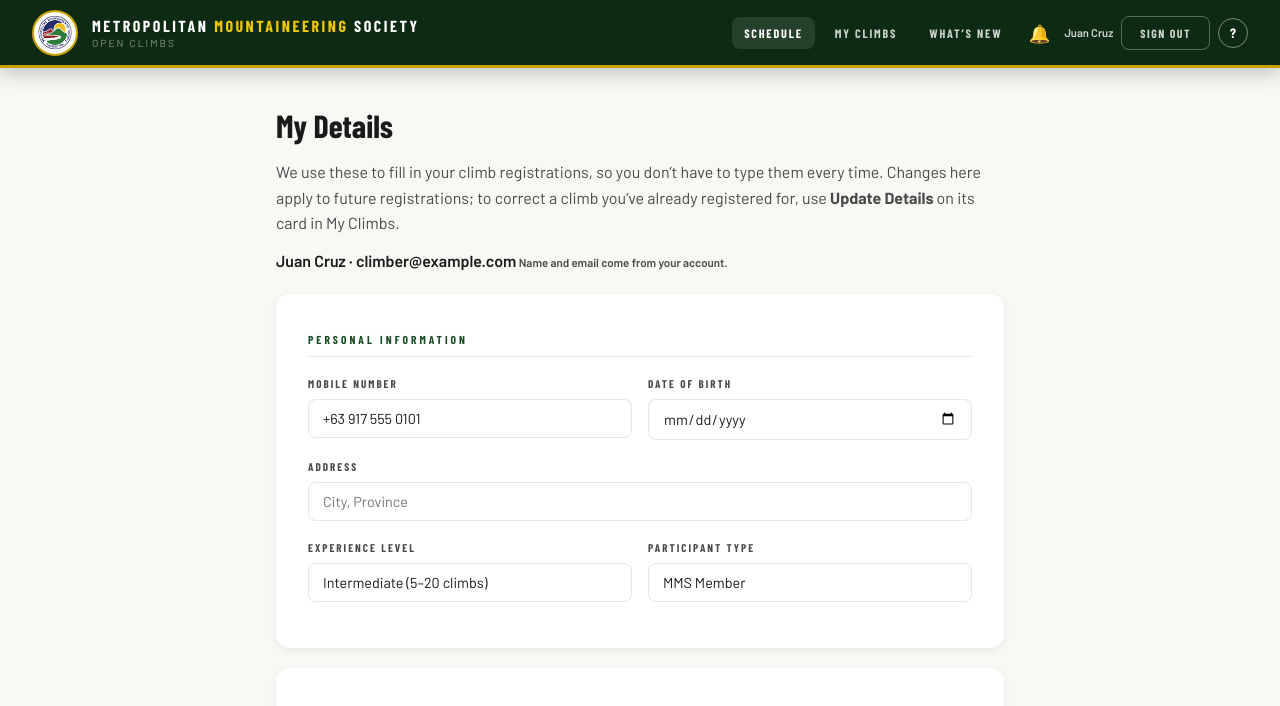
Test case: My Details page › saves edits to the member's own record
Replace the text in the field showing "+63 917 555 0101" with " +63 999 000 0000 " at (470, 418), box [308, 399, 632, 438]
(page scrolled)
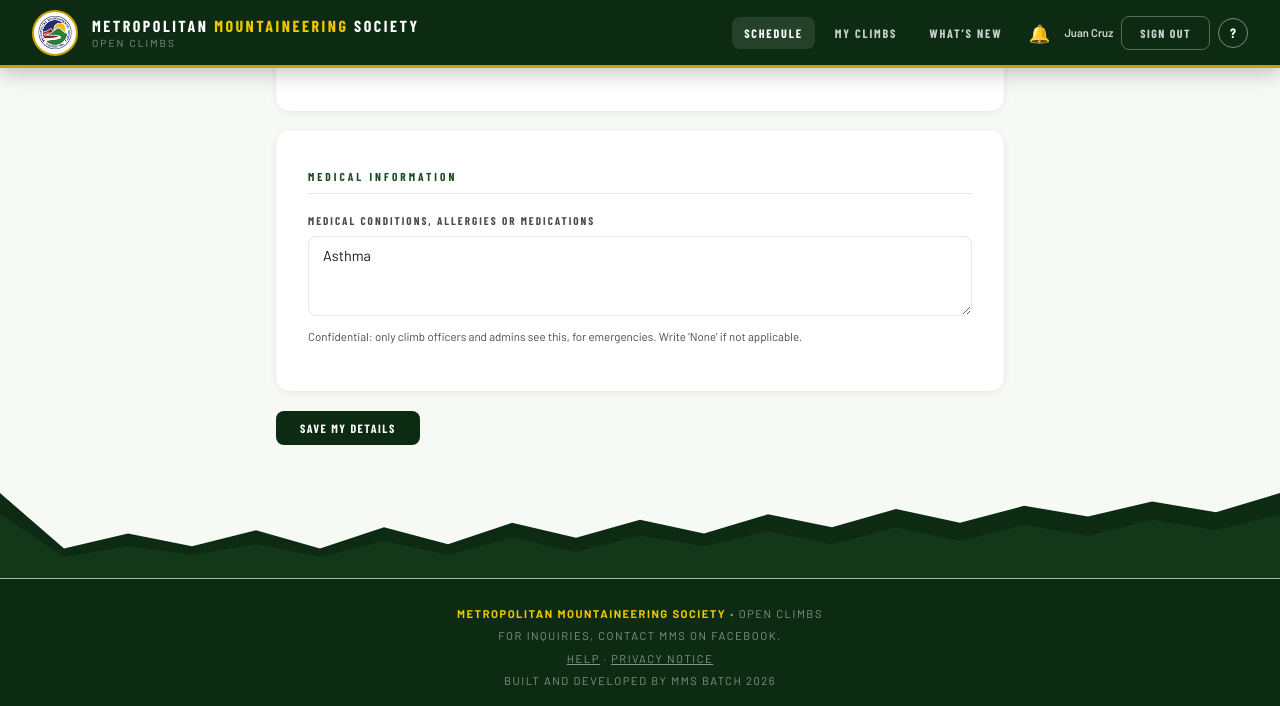
Click the button "Save My Details" at (348, 428), box [276, 411, 420, 445]
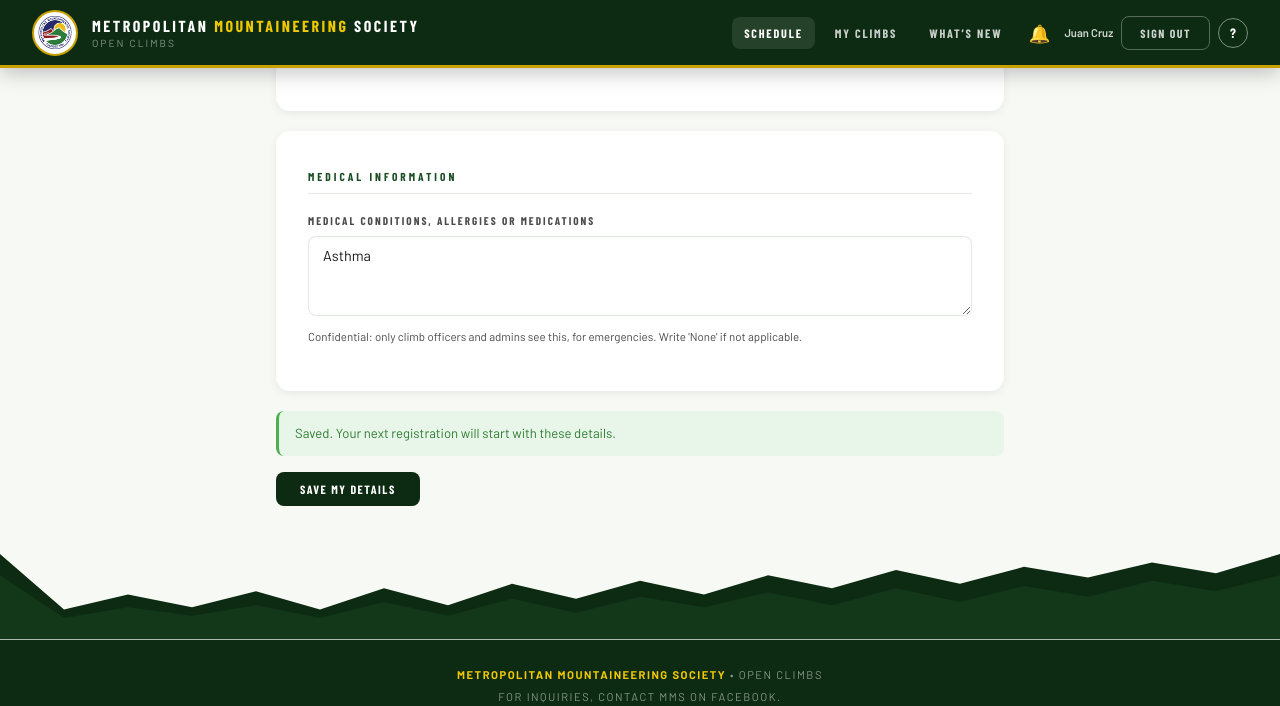
expect the message shows "Saved.": met, box [295, 425, 616, 441]
